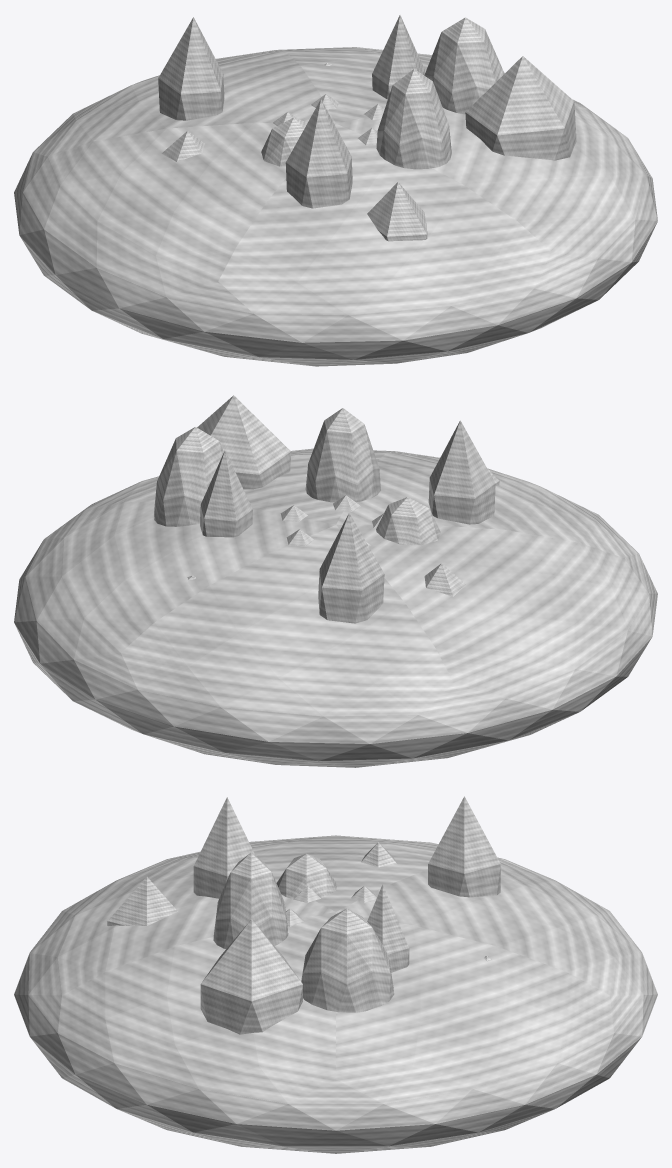
The model's file is copper_ore_node_variant_b.glb.
3 renders of one model, top to bottom at view 1: azimuth 30°, elevation 25°; view 2: azimuth 150°, elevation 25°; view 3: azimuth 270°, elevation 25°, orthographic.
Visible parts, largest first — view 1: Resource node bedrock.001, Exposed ore formation.020, Exposed ore formation.019, Exposed ore formation.017, Exposed ore formation.010, Exposed ore formation.014, Exposed ore formation.018, Exposed ore formation.011, Exposed ore formation.016, Exposed ore formation.015; view 2: Resource node bedrock.001, Exposed ore formation.019, Exposed ore formation.014, Exposed ore formation.017, Exposed ore formation.010, Exposed ore formation.020, Exposed ore formation.011, Exposed ore formation.016, Exposed ore formation.015; view 3: Resource node bedrock.001, Exposed ore formation.020, Exposed ore formation.010, Exposed ore formation.014, Exposed ore formation.019, Exposed ore formation.017, Exposed ore formation.018, Exposed ore formation.011, Exposed ore formation.016, Exposed ore formation.015.
Boxes of the visible parts, bbox=[...] form: Resource node bedrock.001: bbox=[14, 47, 657, 366]; Exposed ore formation.020: bbox=[465, 56, 576, 160]; Exposed ore formation.019: bbox=[376, 69, 451, 169]; Exposed ore formation.017: bbox=[285, 99, 352, 208]; Exposed ore formation.010: bbox=[424, 17, 504, 114]; Exposed ore formation.014: bbox=[158, 17, 224, 120]; Exposed ore formation.018: bbox=[367, 182, 427, 241]; Exposed ore formation.011: bbox=[372, 15, 424, 99]; Exposed ore formation.016: bbox=[261, 117, 307, 166]; Exposed ore formation.015: bbox=[161, 130, 204, 161]; Resource node bedrock.001: bbox=[14, 448, 657, 767]; Exposed ore formation.019: bbox=[305, 408, 380, 502]; Exposed ore formation.014: bbox=[318, 513, 384, 623]; Exposed ore formation.017: bbox=[428, 420, 495, 524]; Exposed ore formation.010: bbox=[154, 427, 223, 526]; Exposed ore formation.020: bbox=[197, 395, 291, 489]; Exposed ore formation.011: bbox=[200, 450, 252, 537]; Exposed ore formation.016: bbox=[376, 497, 440, 545]; Exposed ore formation.015: bbox=[424, 563, 465, 596]; Resource node bedrock.001: bbox=[14, 835, 657, 1153]; Exposed ore formation.020: bbox=[200, 919, 302, 1034]; Exposed ore formation.010: bbox=[301, 908, 394, 1012]; Exposed ore formation.014: bbox=[428, 796, 500, 897]; Exposed ore formation.019: bbox=[213, 852, 288, 948]; Exposed ore formation.017: bbox=[193, 797, 255, 898]; Exposed ore formation.018: bbox=[107, 877, 177, 925]; Exposed ore formation.011: bbox=[367, 884, 409, 972]; Exposed ore formation.016: bbox=[276, 853, 337, 898]; Exposed ore formation.015: bbox=[361, 842, 397, 867].
Size of what is drawn, in the model's own units: 6 by 2.54 by 6.
Materials: 2 (2 with a texture image).
